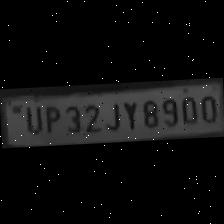0: (196, 90, 218, 122), (178, 92, 198, 124)
2: (79, 99, 101, 133)
3: (60, 100, 82, 134)
8: (138, 96, 160, 128)
9: (158, 93, 180, 127)
J: (100, 97, 120, 131)
P: (41, 102, 61, 134)
U: (21, 102, 43, 134)
Y: (119, 96, 139, 132)
